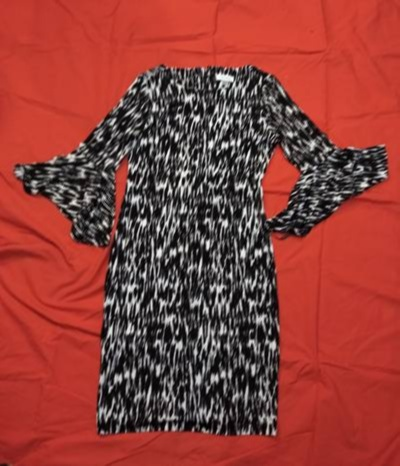Dress: (39, 37, 386, 444)
